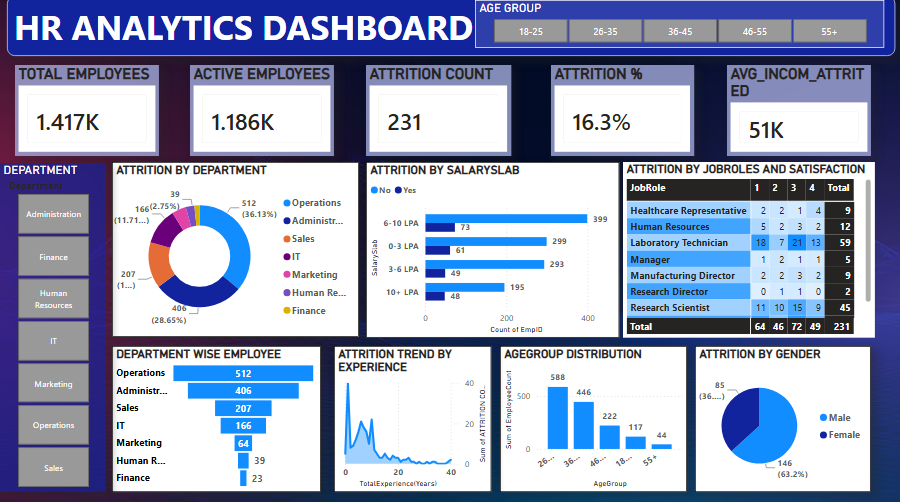

This screenshot's page, from the dashboard's own definition file:
{"tool":"powerbi","page":{"name":"Page 1","canvas":[1280,720],"ordinal":0},"visuals":[{"type":"textbox","box":[10,0,1259,85],"z":0},{"type":"cardVisual","title":"TOTAL EMPLOYEES","fields":{"Data":["CountNonNull(hr analytics project.EmpID)"]},"box":[21.3,97.8,204.1,129],"z":1000},{"type":"cardVisual","title":"ACTIVE EMPLOYEES","fields":{"Data":["CountNonNull(hr analytics project.EmployeeCount)"]},"box":[269.3,97.8,204.1,129],"z":2000},{"type":"cardVisual","title":"ATTRITION COUNT","fields":{"Data":["CountNonNull(hr analytics project.ATTRITION COUNT)"]},"box":[518.7,97.8,205.5,129],"z":3000},{"type":"cardVisual","title":"ATTRITION %","fields":{"Data":["hr analytics project.ATTRITION %"]},"box":[780.9,97.8,202.7,129],"z":4000},{"type":"cardVisual","title":"AVG_INCOM_ATTRITED","fields":{"Data":["hr analytics project.AVG_INCOM_ATTRITED"]},"box":[1030.4,97.8,204.1,129],"z":5000},{"type":"donutChart","title":"ATTRITION BY DEPARTMENT","fields":{"Category":["hr analytics project.Department"],"Y":["CountNonNull(hr analytics project.ATTRITION COUNT)"]},"box":[158.7,235.3,350.1,248],"z":6000},{"type":"clusteredBarChart","title":"ATTRITION BY SALARYSLAB","fields":{"Category":["hr analytics project.SalarySlab"],"Y":["CountNonNull(hr analytics project.EmpID)"],"Series":["hr analytics project.Attrition"]},"box":[518.7,235.3,358.6,249.4],"z":7000},{"type":"pivotTable","title":"ATTRITION BY JOBROLES AND SATISFACTION","fields":{"Rows":["hr analytics project.JobRole"],"Columns":["hr analytics project.JobSatisfaction"],"Values":["Sum(hr analytics project.ATTRITION COUNT)"]},"box":[883,235.3,357.2,249.4],"z":8000},{"type":"actionButton","box":[0,0,100.6,39.7],"z":9000},{"type":"columnChart","title":"AGEGROUP DISTRIBUTION","fields":{"Category":["hr analytics project.AgeGroup"],"Y":["Sum(hr analytics project.EmployeeCount)"]},"box":[708.7,496.1,265,206.9],"z":10000},{"type":"pieChart","title":"ATTRITION BY GENDER","fields":{"Category":["hr analytics project.Gender"],"Y":["Sum(hr analytics project.ATTRITION COUNT)"]},"box":[985,496.1,249.4,206.9],"z":11000},{"type":"areaChart","title":"ATTRITION TREND BY EXPERIENCE","fields":{"Category":["hr analytics project.TotalExperience(Years)"],"Y2":["Sum(hr analytics project.ATTRITION COUNT)"]},"box":[473.4,496.1,222.5,206.9],"z":12000},{"type":"funnel","title":"DEPARTMENT WISE EMPLOYEE","fields":{"Category":["hr analytics project.Department"],"Y":["CountNonNull(hr analytics project.EmpID)"]},"box":[158.7,496.1,296.2,206.9],"z":13000},{"type":"slicer","title":"DEPARTMENT","fields":{"Values":["hr analytics project.Department"]},"box":[0,236.7,150.2,466.3],"z":14000},{"type":"slicer","title":"AGE GROUP","fields":{"Values":["hr analytics project.AgeGroup"]},"box":[673.2,5.7,579.7,68],"z":15000}]}

Visuals, with their boxes in screenshot pixels (x1, y1, x2, y2), scaled from the page's 1280x720 canvas onto the 900x502 screenshot:
textbox: locate(7, 0, 892, 59)
"TOTAL EMPLOYEES" cardVisual: locate(15, 68, 158, 158)
"ACTIVE EMPLOYEES" cardVisual: locate(189, 68, 333, 158)
"ATTRITION COUNT" cardVisual: locate(365, 68, 509, 158)
"ATTRITION %" cardVisual: locate(549, 68, 692, 158)
"AVG_INCOM_ATTRITED" cardVisual: locate(725, 68, 868, 158)
"ATTRITION BY DEPARTMENT" donutChart: locate(112, 164, 358, 337)
"ATTRITION BY SALARYSLAB" clusteredBarChart: locate(365, 164, 617, 338)
"ATTRITION BY JOBROLES AND SATISFACTION" pivotTable: locate(621, 164, 872, 338)
actionButton: locate(0, 0, 71, 28)
"AGEGROUP DISTRIBUTION" columnChart: locate(498, 346, 685, 490)
"ATTRITION BY GENDER" pieChart: locate(693, 346, 868, 490)
"ATTRITION TREND BY EXPERIENCE" areaChart: locate(333, 346, 489, 490)
"DEPARTMENT WISE EMPLOYEE" funnel: locate(112, 346, 320, 490)
"DEPARTMENT" slicer: locate(0, 165, 106, 490)
"AGE GROUP" slicer: locate(473, 4, 881, 51)
